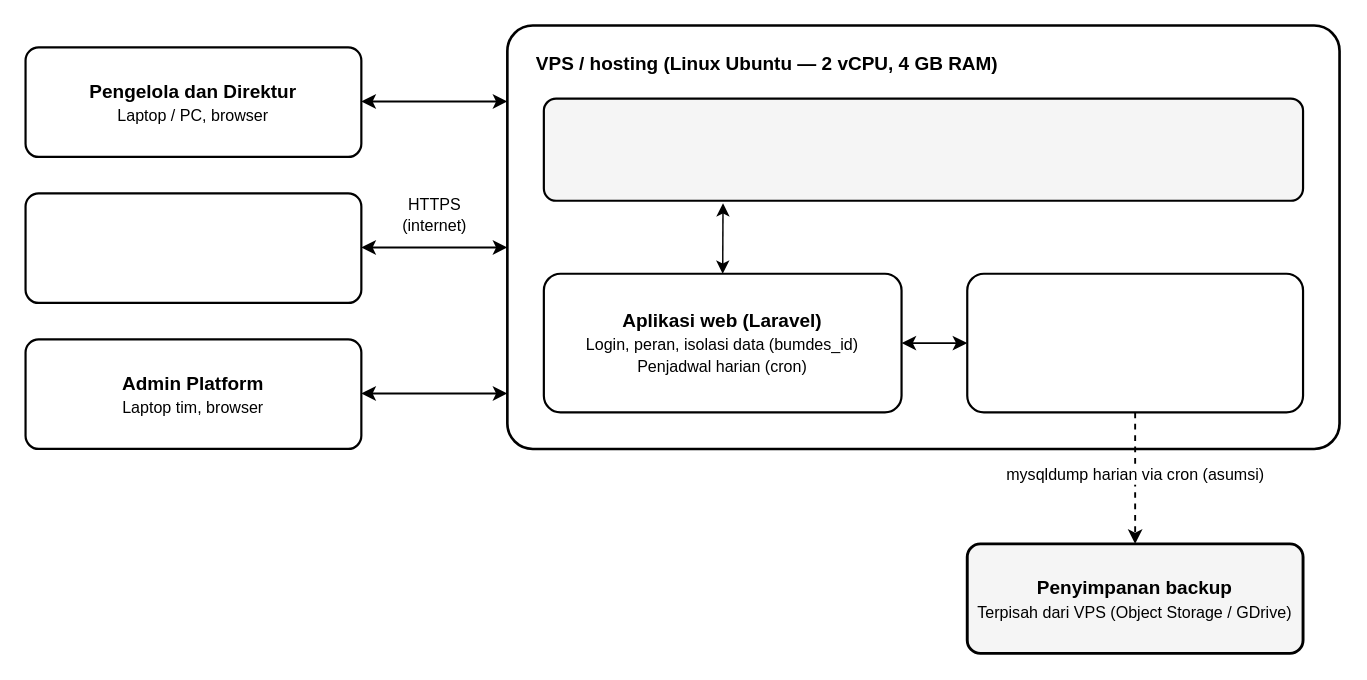
This 1367x680 diagram has some shape labels left out. Each missing label, with the centre of its shape:
"DBMS (MySQL) Data semua BUMDes Hanya akses dari localhost server" belongs at pixel 1134 342.
"Pemerintah Desa Browser, hanya baca" belongs at pixel 193 247.
"Web server + reverse proxy (Nginx) HTTPS (port 443), sertifikat SSL/TLS" belongs at pixel 922 149.
